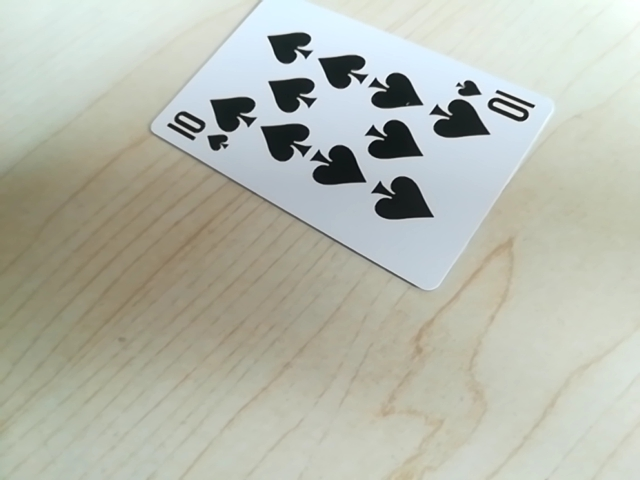ht 10: (447, 75, 548, 122), (158, 113, 232, 157)
